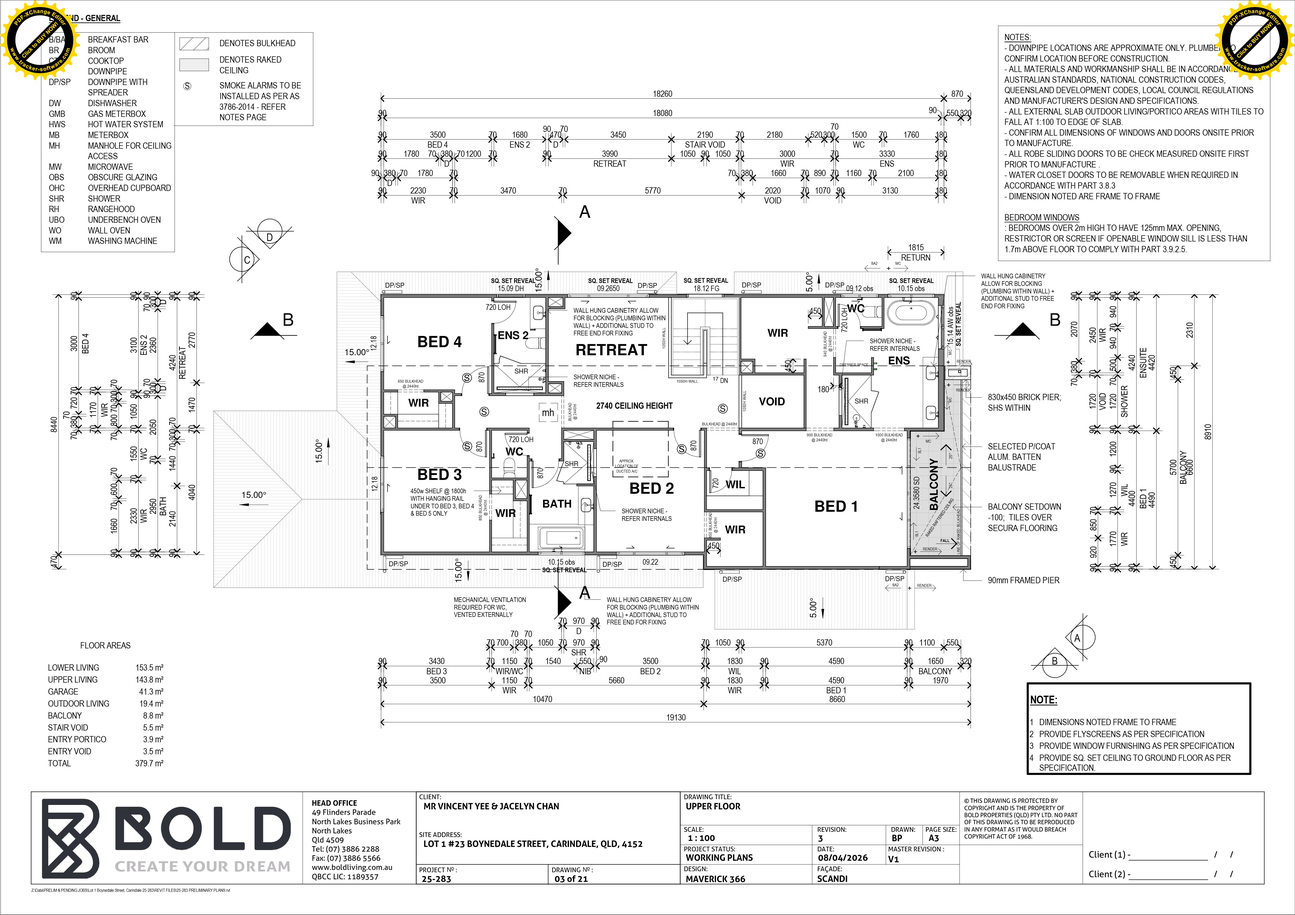wall: (382, 292, 941, 300), (382, 548, 705, 556), (705, 563, 969, 571), (379, 296, 386, 553), (736, 296, 744, 469), (740, 426, 908, 434), (382, 425, 528, 433), (563, 425, 705, 433), (904, 430, 912, 567), (937, 296, 945, 429), (524, 429, 532, 553), (591, 429, 599, 553), (701, 429, 709, 552), (487, 429, 494, 553), (760, 469, 768, 567), (543, 296, 551, 393), (489, 296, 497, 393), (453, 390, 563, 397), (667, 296, 675, 377), (830, 296, 838, 374), (559, 383, 567, 460), (808, 323, 883, 331), (382, 387, 454, 395), (801, 359, 809, 430), (740, 370, 805, 378), (908, 553, 969, 561), (705, 465, 764, 473), (708, 507, 764, 515), (836, 374, 844, 430), (701, 327, 709, 377), (834, 370, 873, 378), (491, 475, 528, 483), (491, 496, 528, 504), (528, 456, 563, 464), (671, 373, 705, 381), (450, 391, 457, 429), (908, 425, 941, 433), (563, 436, 595, 444), (879, 296, 887, 327), (818, 296, 826, 325), (510, 479, 518, 500), (576, 481, 595, 489), (869, 356, 877, 374), (547, 304, 564, 312), (547, 294, 564, 302), (701, 552, 709, 568), (547, 379, 563, 387), (393, 414, 401, 429), (440, 400, 454, 408), (705, 535, 721, 542), (740, 357, 754, 365), (382, 411, 397, 418), (436, 391, 444, 404), (560, 296, 568, 308), (750, 361, 757, 374), (965, 557, 972, 567)
